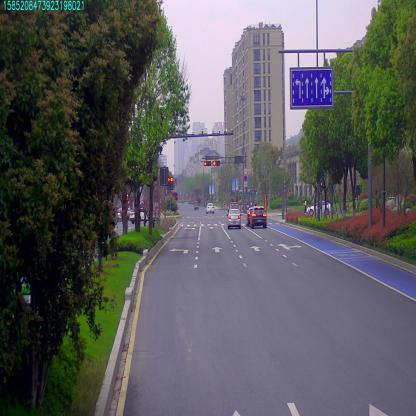traffic-light: (202, 159, 210, 165), (214, 160, 221, 165)
